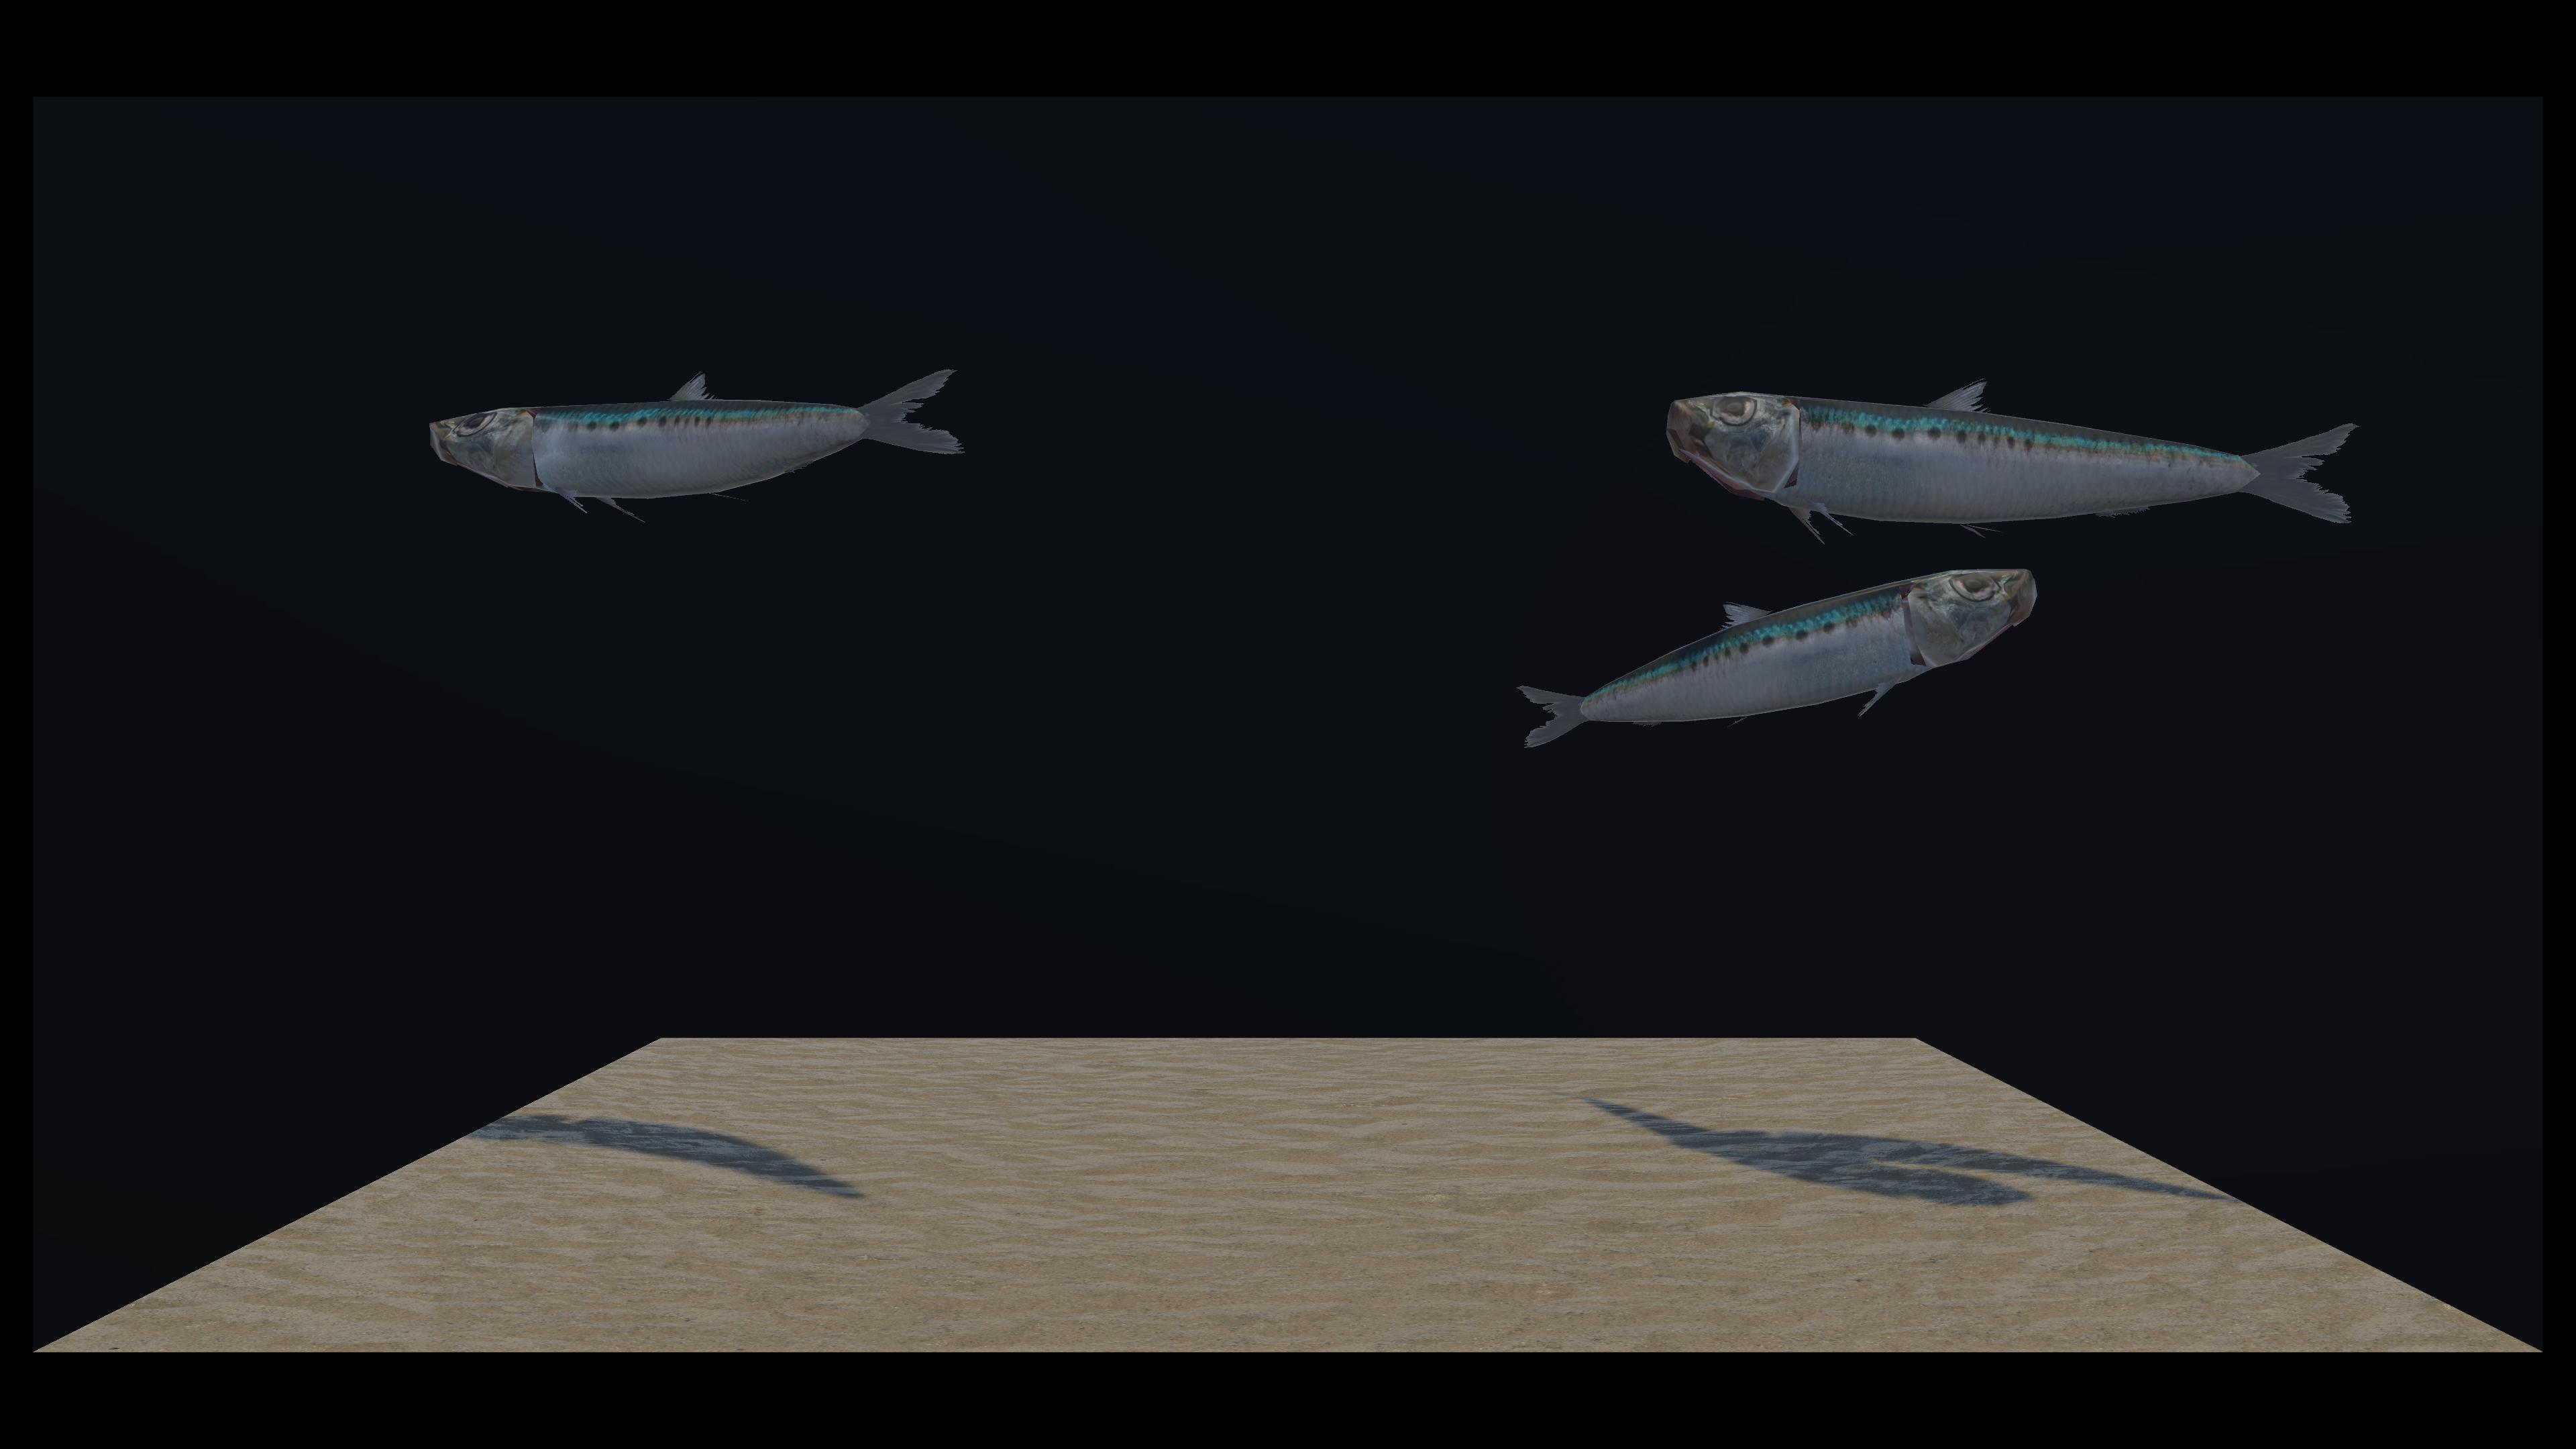Sardine_Front: (819, 416, 2022, 748), (839, 387, 2350, 547), (442, 320, 950, 531)
